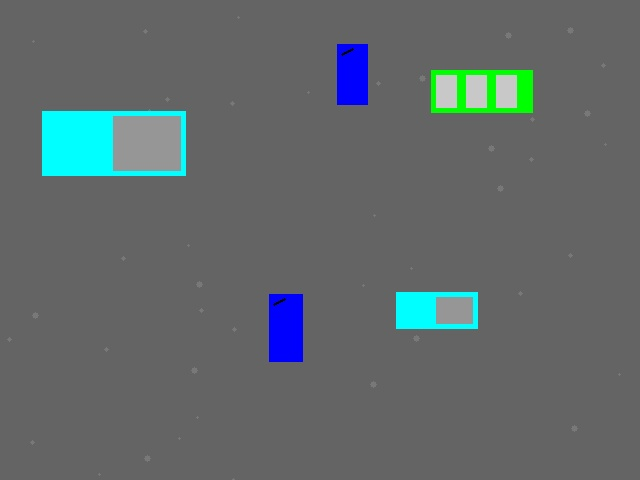bus: (431, 70, 532, 112)
motorcycle: (269, 294, 302, 361), (337, 44, 367, 104)
truck: (42, 111, 185, 175), (396, 292, 477, 328)
